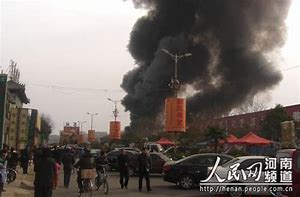smoke: (120, 1, 292, 119)
